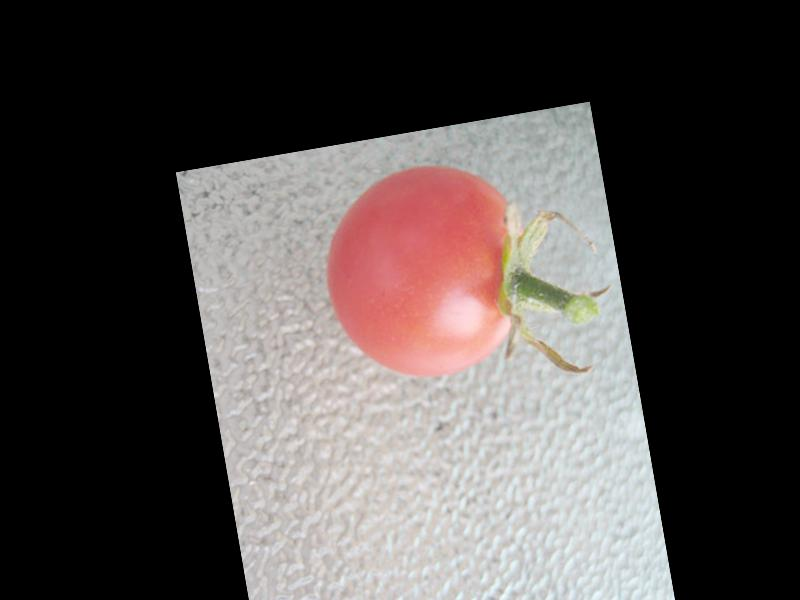Tomato: (309, 154, 535, 395)
